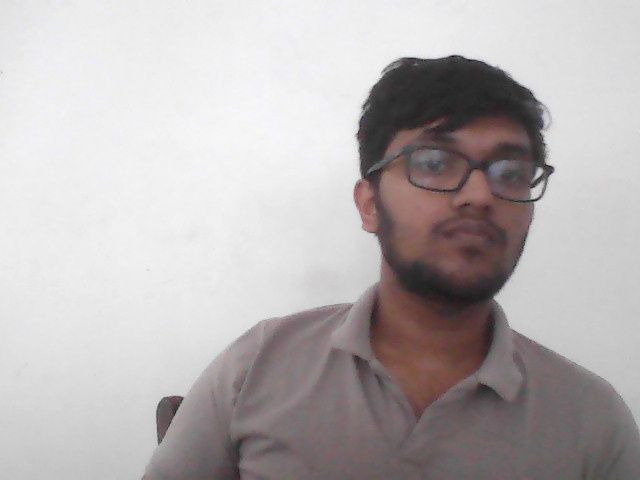upper level: (355, 55, 555, 309)
